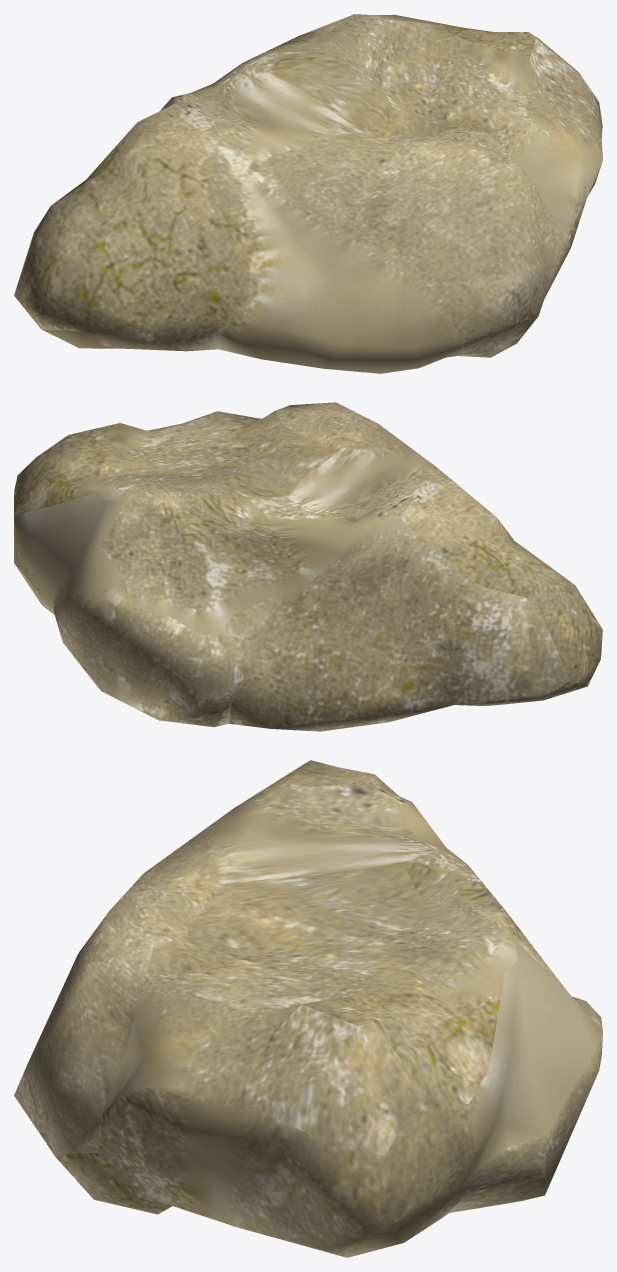
Rendered from piece2.glb.
3 renders of one model, top to bottom at view 1: azimuth 30°, elevation 25°; view 2: azimuth 150°, elevation 25°; view 3: azimuth 270°, elevation 25°, orthographic. The views are drawn at different scales.
Visible parts, largest first — view 1: Aset_nature_rock_S_wdcbcds_00_LOD3; view 2: Aset_nature_rock_S_wdcbcds_00_LOD3; view 3: Aset_nature_rock_S_wdcbcds_00_LOD3.
Boxes of the visible parts, box(x1,y1,x2,y2) form: Aset_nature_rock_S_wdcbcds_00_LOD3: box(14, 14, 602, 373); Aset_nature_rock_S_wdcbcds_00_LOD3: box(14, 402, 602, 731); Aset_nature_rock_S_wdcbcds_00_LOD3: box(14, 760, 602, 1257).
Size of the model in its own units: 0.8784 by 0.3293 by 0.6143.
1 material, 1 textured.
